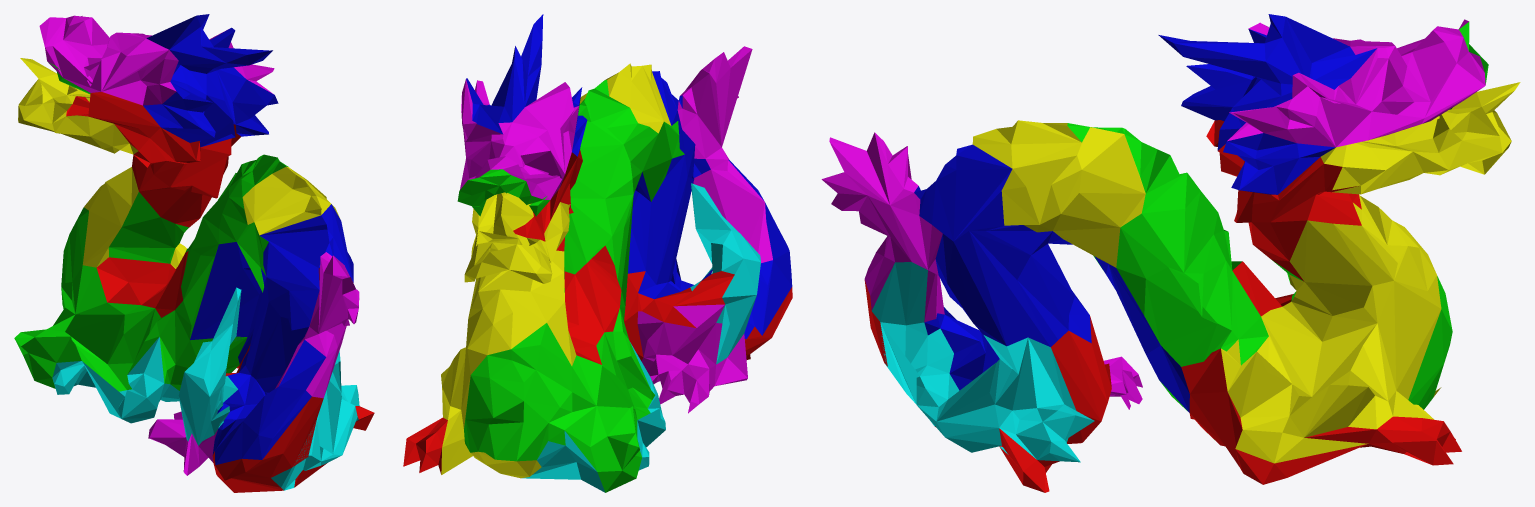
The model's file is Dragon_8K_L2.fbx.
3 renders of one model, left to right at view 1: azimuth 30°, elevation 25°; view 2: azimuth 150°, elevation 25°; view 3: azimuth 270°, elevation 25°, orthographic. The views are drawn at different scales.
Bounding box in the file's own units: 0.4479 × 0.7051 × 0.9979.
